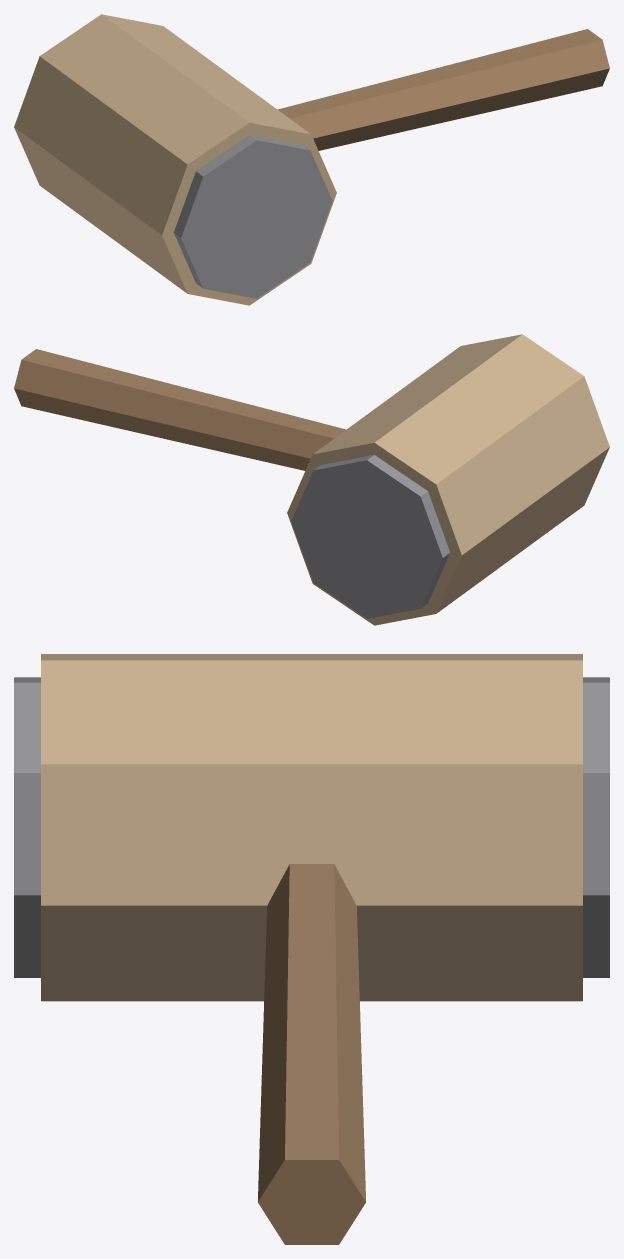
The model's file is prop-mallet-stone.fbx.
The picture shows the model from 3 angles, top to bottom: view 1: azimuth 30°, elevation 25°; view 2: azimuth 150°, elevation 25°; view 3: azimuth 270°, elevation 25°; orthographic projection. The views are drawn at different scales.
Parts seen in each view (by area): view 1: prop-mallet-stone; view 2: prop-mallet-stone; view 3: prop-mallet-stone.
Part boxes in pixels (box(x1,y1,x2,y2)): prop-mallet-stone: box(14, 14, 609, 305); prop-mallet-stone: box(14, 334, 609, 625); prop-mallet-stone: box(14, 654, 609, 1244).
Size of the model in its own units: 43.5 by 15 by 24.2.
